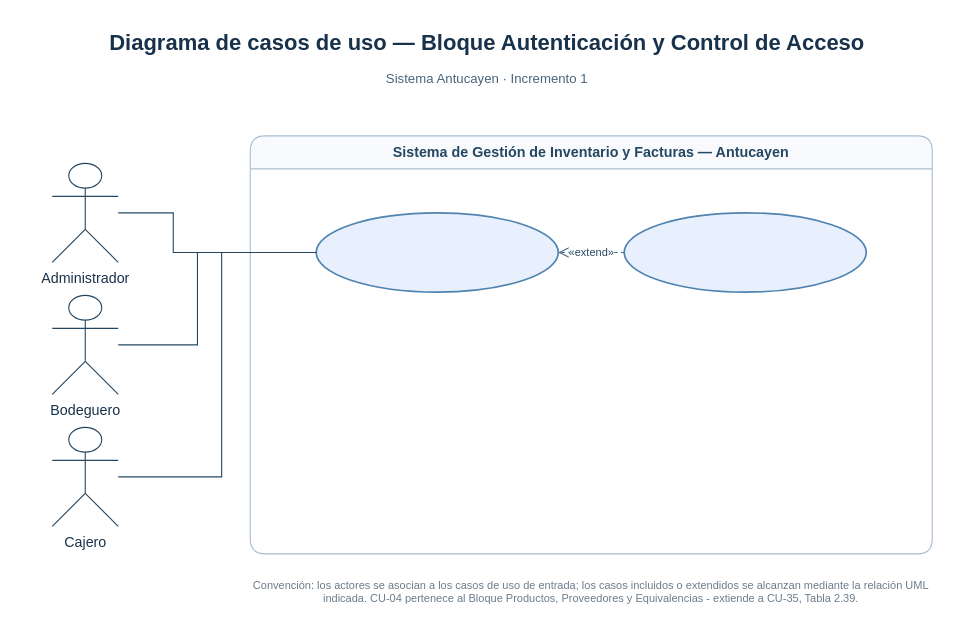
Image size: 972x631. Some labels were removed from this diagram. Here are the shapes that lost their labels. From the top down, the centre of each, then its label:
the point at 437,252: CU-35 Controlando acceso mediante credenciales
the point at 745,252: CU-04 Restringiendo modificación de productos
